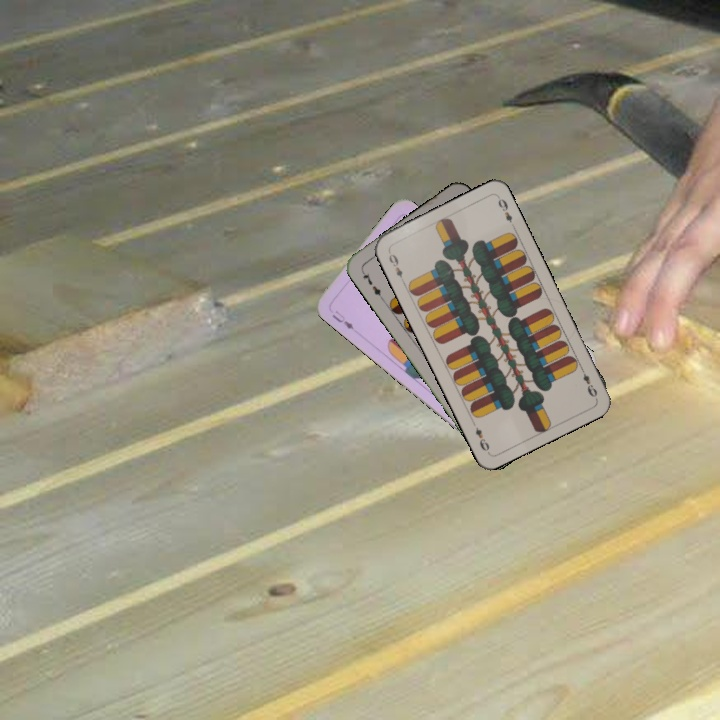E7: (357, 266, 385, 302)
E9: (576, 363, 600, 400), (384, 247, 407, 285)
EU: (328, 306, 356, 332)
